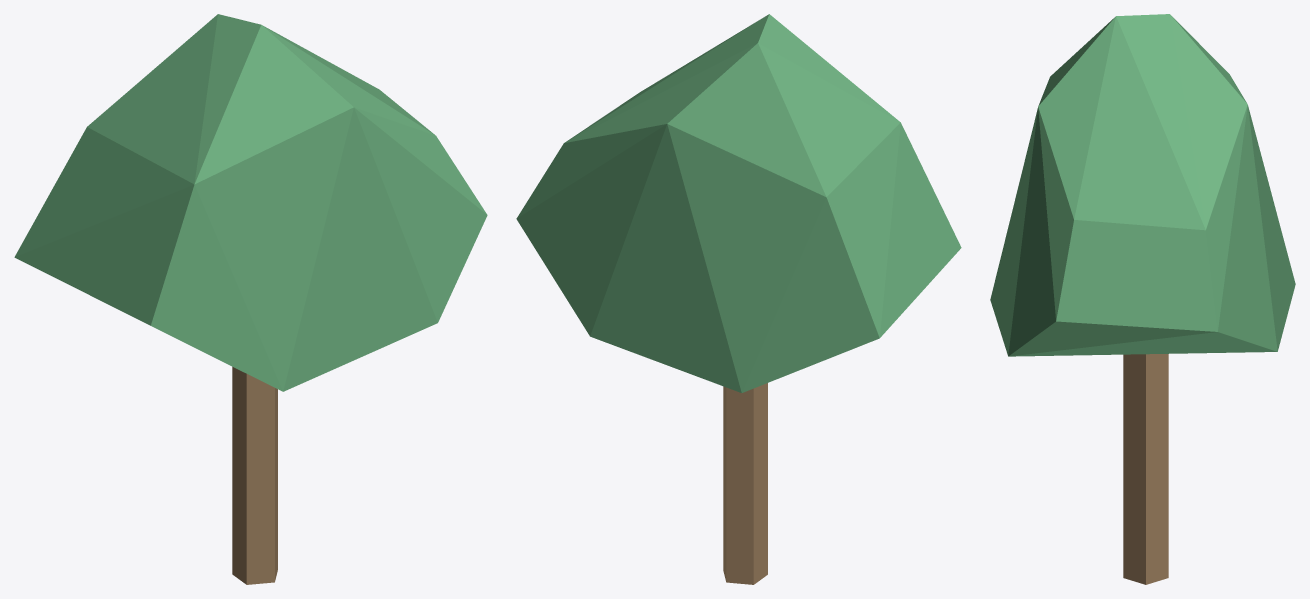
File: forest-lod-far-deciduous.glb
The picture shows the model from 3 angles, left to right: view 1: azimuth 30°, elevation 25°; view 2: azimuth 150°, elevation 25°; view 3: azimuth 270°, elevation 25°; orthographic projection. The views are drawn at different scales.
Visible parts, largest first — view 1: crown, trunk; view 2: crown, trunk; view 3: crown, trunk.
Boxes of the visible parts, <box> form: crown: <box>14,14,487,391</box>; trunk: <box>232,367,277,584</box>; crown: <box>516,14,961,392</box>; trunk: <box>723,383,767,584</box>; crown: <box>990,14,1295,356</box>; trunk: <box>1123,354,1168,584</box>.
Bounding box in the file's own units: 1.46 × 2.04 × 1.02.
